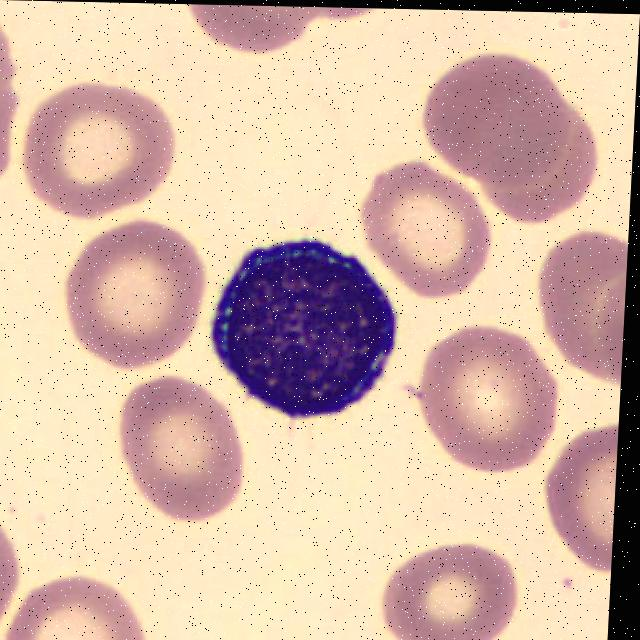lymphocyte: (208, 237, 418, 428)
rbc: (21, 75, 177, 215), (57, 227, 214, 364), (410, 331, 552, 473), (413, 57, 568, 178), (119, 385, 248, 519), (360, 165, 493, 289), (465, 111, 594, 234), (535, 231, 629, 370), (379, 545, 513, 640), (539, 417, 619, 574), (5, 578, 146, 640), (188, 4, 345, 55), (578, 274, 626, 393), (0, 23, 24, 192), (0, 499, 17, 640)
